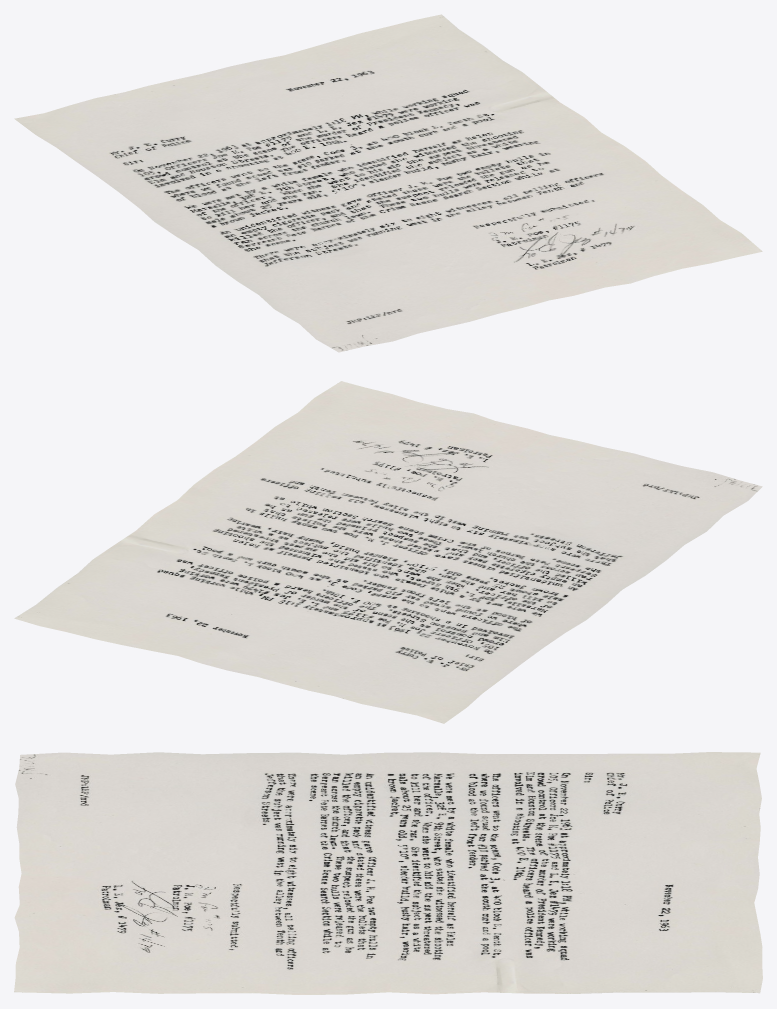
File: crumple1.gltf
3 views of the same model, one above another, from view 1: azimuth 30°, elevation 25°; view 2: azimuth 150°, elevation 25°; view 3: azimuth 270°, elevation 25° (orthographic). The views are drawn at different scales.
Parts seen in each view (by area): view 1: Plane; view 2: Plane; view 3: Plane.
Part boxes in pixels (<box>): Plane: <box>14,14,762,352</box>; Plane: <box>14,381,762,723</box>; Plane: <box>14,752,762,994</box>.
Size of the model in its own units: 23.25 by 0.0151 by 30.32.
Materials: 1 (1 with a texture image).
